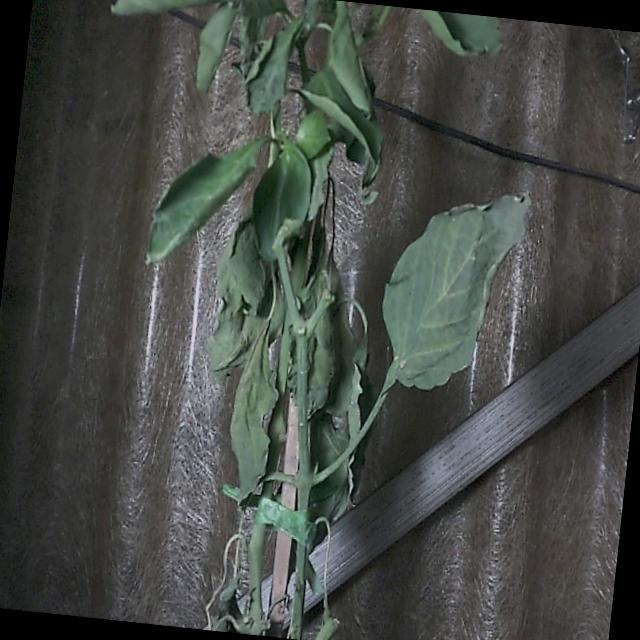Leaf: (374, 176, 530, 402), (146, 129, 258, 276)
